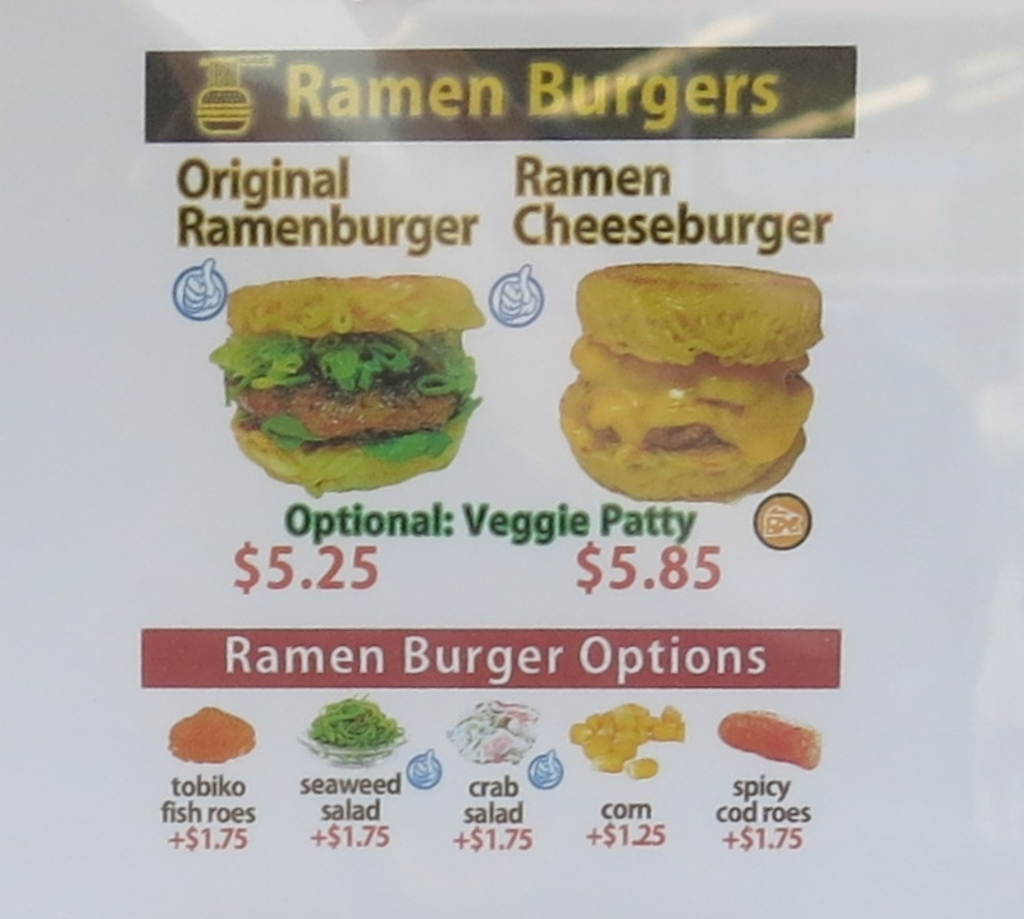Hamburger: (558, 266, 825, 509), (206, 273, 482, 497)
